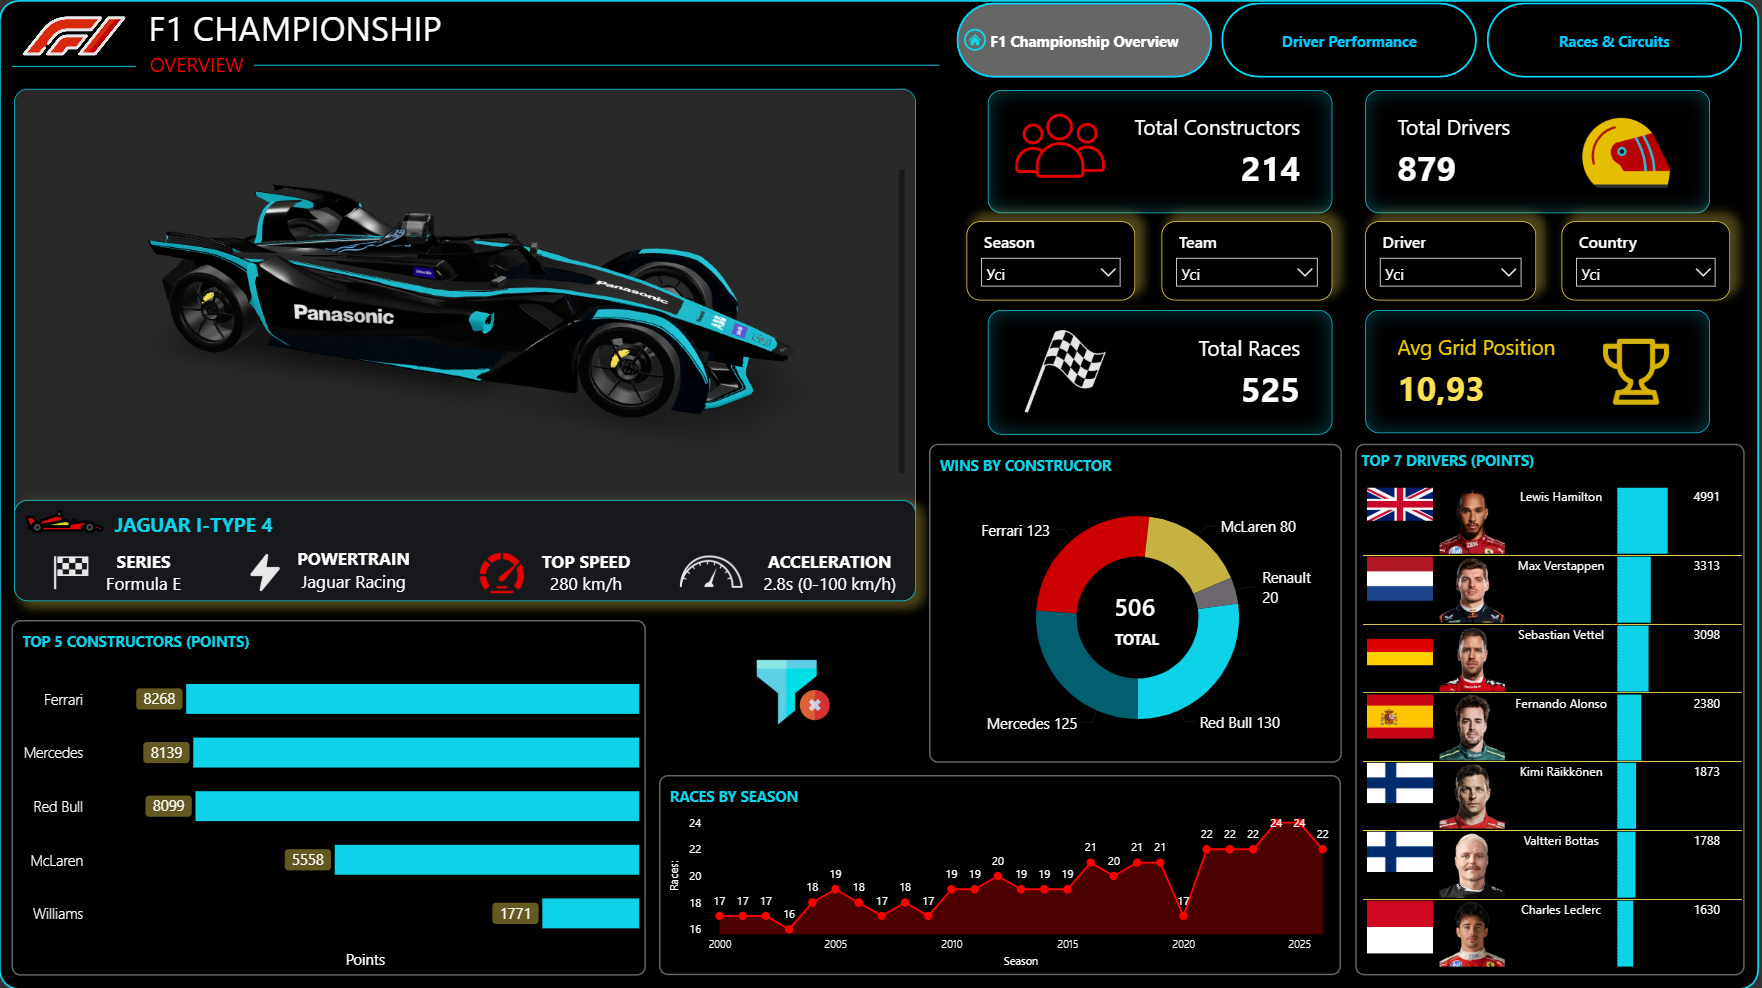

The dashboard page shown, as its layout file describes it:
{"tool":"powerbi","page":{"name":"F1 Championship Overview","canvas":[1920,1080],"ordinal":0},"visuals":[{"type":"shape","box":[0,0,1920,1080],"z":0},{"type":"cardVisual","fields":{"Data":["Measures_.Total Constructors"]},"box":[1078,98,376,134],"z":1000},{"type":"cardVisual","fields":{"Data":["Measures_.Total Races"]},"box":[1078,338,376,136],"z":2000},{"type":"cardVisual","fields":{"Data":["Measures_.Total Drivers"]},"box":[1490,98,376,134],"z":3000},{"type":"cardVisual","fields":{"Data":["Measures_.Avg Grid Position"]},"box":[1490,338,376,134],"z":4000},{"type":"htmlContent443BE3AD55E043BF878BED274D3A6855","fields":{"content":["Measures_.Car3D"]},"box":[16.5,97.2,984,472],"z":5000},{"type":"textbox","box":[158,0,1270,80],"z":6000},{"type":"textbox","box":[159.2,33.1,131.5,84.6],"z":7000},{"type":"shape","box":[14,46,136,52],"z":8000},{"type":"shape","box":[277.8,45.6,747.8,52.2],"z":9000},{"type":"slicer","fields":{"Values":["f1_circuits_races.Year"]},"box":[1056,242,184,86],"z":10000},{"type":"slicer","fields":{"Values":["f1_constructors.name"]},"box":[1268,242,186,86],"z":11000},{"type":"slicer","fields":{"Values":["f1_drivers.Driver Name"]},"box":[1490,242,186,86],"z":12000},{"type":"slicer","fields":{"Values":["f1_circuits_races.country"]},"box":[1704,242,184,86],"z":13000},{"type":"textbox","box":[16,546,984,110],"z":14000},{"type":"textbox","box":[78.3,595,160,66.7],"z":15000},{"type":"textbox","box":[306.7,591.7,160,74],"z":16000},{"type":"textbox","box":[560,595,160,74],"z":17000},{"type":"textbox","box":[826.7,594.4,160,74],"z":18000},{"type":"lineChart","title":"RACES BY SEASON","fields":{"Category":["f1_circuits_races.season"],"Y":["Measures_.Total Races"]},"box":[720,846,744,218],"z":19000},{"type":"tableEx","title":"TOP 7 DRIVERS (POINTS)","fields":{"Values":["f1_drivers.Flag URL","f1_drivers.Image URL","f1_drivers.Driver Name","Measures_.Progress","Measures_.Total Points"]},"box":[1479.1,483.6,424.5,580],"z":20000},{"type":"clusteredBarChart","title":"TOP 5 CONSTRUCTORS (POINTS)","fields":{"Category":["f1_constructors.name"],"Y":["Measures_.Total Points"]},"box":[14,676,692,388],"z":21000},{"type":"donutChart","title":"WINS BY CONSTRUCTOR","fields":{"Category":["f1_constructors.name"],"Y":["Measures_.Total Wins"]},"box":[1014,484,450,348],"z":22000},{"type":"cardVisual","fields":{"Data":["Measures_.Total Wins"]},"box":[1163.8,623.8,152.5,73.8],"z":23000},{"type":"cardVisual","fields":{"Data":["Measures_.Total Wins"]},"box":[1157.5,656.2,167.5,82.5],"z":24000},{"type":"image","box":[26,0,112,78],"z":25000},{"type":"image","box":[1073.6,360,180,90],"z":26000},{"type":"image","box":[1717.3,118.2,116,96],"z":27000},{"type":"image","box":[25,516.7,95,106.7],"z":28000},{"type":"image","box":[50,580,57.1,90],"z":29000},{"type":"image","box":[1089.1,124.5,136,98],"z":30000},{"type":"image","box":[1739.1,370,94,72],"z":31000},{"type":"image","box":[251.7,601.7,76,46],"z":32000},{"type":"image","box":[508,596,80,58],"z":33000},{"type":"image","box":[742,584,70,80],"z":34000},{"type":"pageNavigator","box":[1044.4,2.2,858,82],"z":35000},{"type":"image","box":[1052.7,31.3,24,24],"z":36000},{"type":"image","box":[826.7,710,80,90],"z":37000}]}

Visuals, with their boxes in screenshot pixels (x1, y1, x2, y2), scaled from the page's 1920x1080 canvas onto the 1762x988 screenshot:
shape: 0 0 1761 987
cardVisual - Measures_.Total Constructors: 989 90 1334 212
cardVisual - Measures_.Total Races: 989 309 1334 434
cardVisual - Measures_.Total Drivers: 1367 90 1712 212
cardVisual - Measures_.Avg Grid Position: 1367 309 1712 432
htmlContent443BE3AD55E043BF878BED274D3A6855 - Measures_.Car3D: 15 89 918 521
textbox: 145 0 1310 73
textbox: 146 30 267 108
shape: 13 42 138 90
shape: 255 42 941 89
slicer - f1_circuits_races.Year: 969 221 1138 300
slicer - f1_constructors.name: 1164 221 1334 300
slicer - f1_drivers.Driver Name: 1367 221 1538 300
slicer - f1_circuits_races.country: 1564 221 1733 300
textbox: 15 499 918 600
textbox: 72 544 219 605
textbox: 281 541 428 609
textbox: 514 544 661 612
textbox: 759 544 906 611
"RACES BY SEASON" lineChart: 661 774 1344 973
"TOP 7 DRIVERS (POINTS)" tableEx: 1357 442 1747 973
"TOP 5 CONSTRUCTORS (POINTS)" clusteredBarChart: 13 618 648 973
"WINS BY CONSTRUCTOR" donutChart: 931 443 1344 761
cardVisual - Measures_.Total Wins: 1068 571 1208 638
cardVisual - Measures_.Total Wins: 1062 600 1216 676
image: 24 0 127 71
image: 985 329 1150 412
image: 1576 108 1682 196
image: 23 473 110 570
image: 46 531 98 613
image: 999 114 1124 204
image: 1596 338 1682 404
image: 231 550 301 593
image: 466 545 540 598
image: 681 534 745 607
pageNavigator: 958 2 1746 77
image: 966 29 988 51
image: 759 650 832 732
